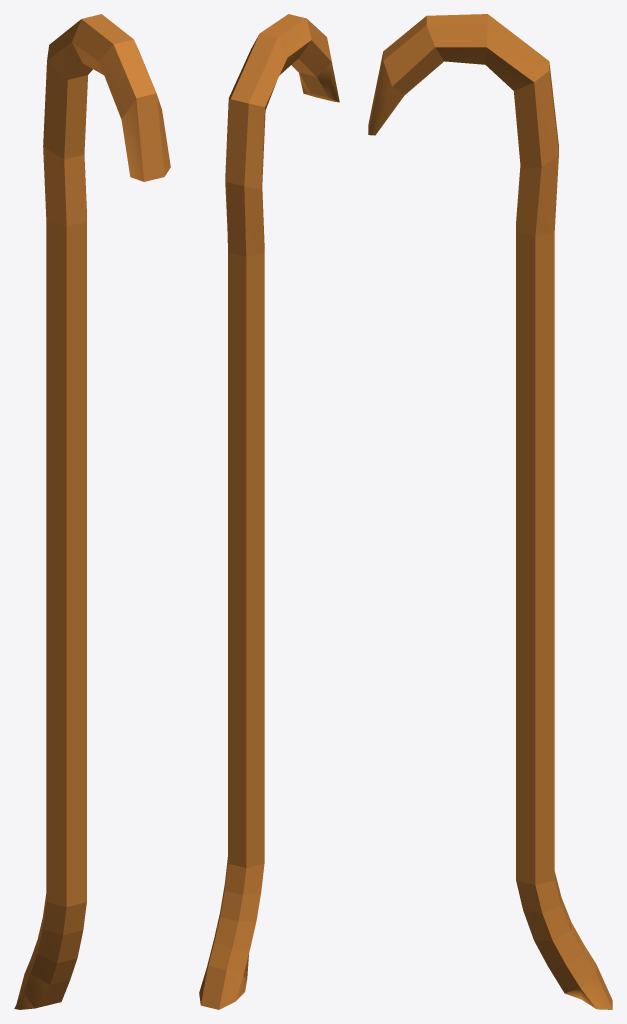
File: Crowbar.fbx
The picture shows the model from 3 angles, left to right: view 1: azimuth 30°, elevation 25°; view 2: azimuth 150°, elevation 25°; view 3: azimuth 270°, elevation 25°; orthographic projection. The views are drawn at different scales.
Parts seen in each view (by area): view 1: Crowbar_Body, Crowbar_Head, Crowbar_Bottom; view 2: Crowbar_Body, Crowbar_Head, Crowbar_Bottom; view 3: Crowbar_Body, Crowbar_Head, Crowbar_Bottom.
Boxes of the visible parts, x1,y1,x2,y2 form: Crowbar_Body: (46,221,86,879); Crowbar_Head: (43,14,170,226); Crowbar_Bottom: (14,875,86,1009); Crowbar_Body: (228,252,264,843); Crowbar_Head: (225,14,339,256); Crowbar_Bottom: (199,839,264,1009); Crowbar_Body: (516,231,554,859); Crowbar_Head: (368,14,558,236); Crowbar_Bottom: (516,854,612,1009).
Size of the model in its own units: 2.75 by 63.35 by 14.23.
